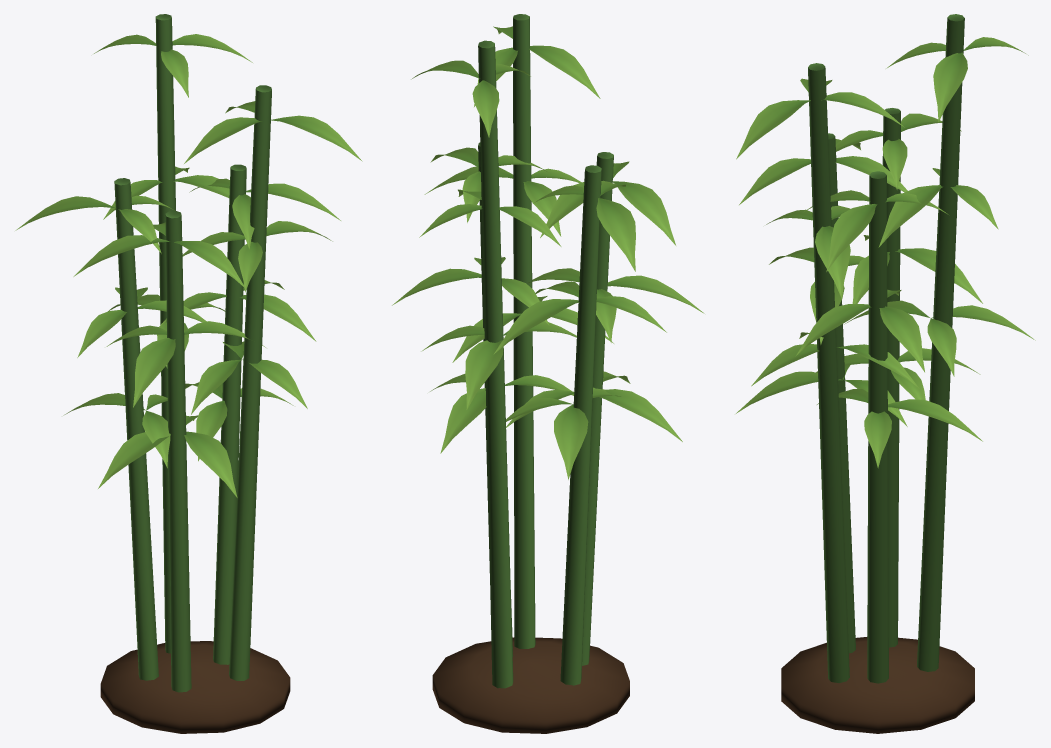
The model's file is golden-plant-bamboo.glb.
The picture shows the model from 3 angles, left to right: view 1: azimuth 30°, elevation 25°; view 2: azimuth 150°, elevation 25°; view 3: azimuth 270°, elevation 25°; orthographic projection. The views are drawn at different scales.
Parts seen in each view (by area): view 1: golden-plant-bamboo; view 2: golden-plant-bamboo; view 3: golden-plant-bamboo.
Boxes of the visible parts, <box> form: golden-plant-bamboo: <box>15,14,362,733</box>; golden-plant-bamboo: <box>392,14,704,733</box>; golden-plant-bamboo: <box>736,14,1035,733</box>.
Bounding box in the file's own units: 1.15 × 2.78 × 1.1.
